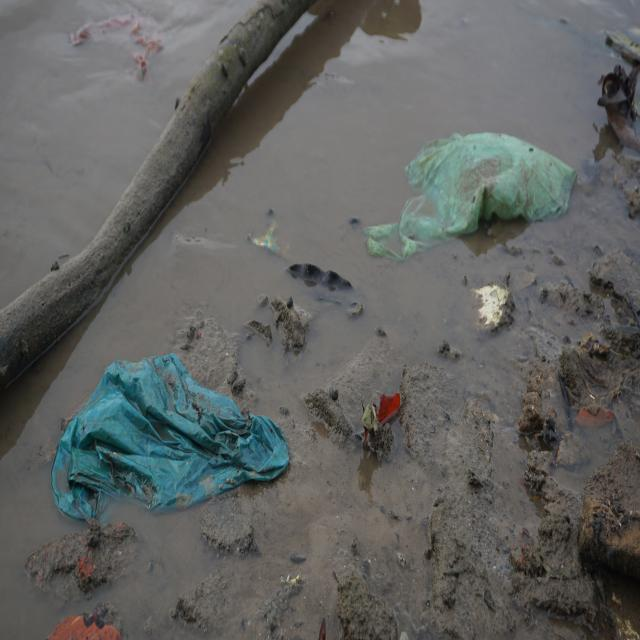Kantong Plastik: (52, 357, 292, 533), (366, 130, 578, 263), (69, 12, 167, 84)
